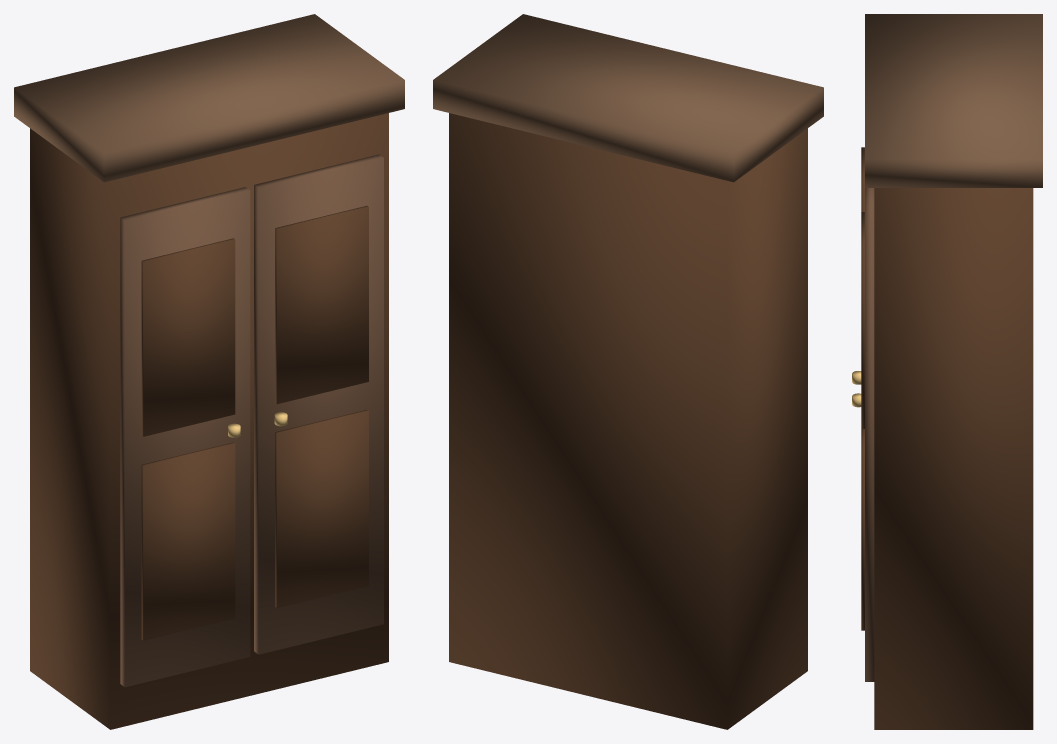
The model's file is wardrobe.glb.
The picture shows the model from 3 angles, left to right: view 1: azimuth 30°, elevation 25°; view 2: azimuth 150°, elevation 25°; view 3: azimuth 270°, elevation 25°; orthographic projection.
Parts seen in each view (by area): view 1: body, crown, door, door.001, panel.001, panel, panel.002, panel.003; view 2: body, crown; view 3: body, crown, door.001, panel.002, panel.003.
Part boxes in pixels (x1,y1,x2,y2): body: (30,113,388,729); crown: (14,14,404,182); door: (120,187,250,687); door.001: (254,154,383,654); panel.001: (141,442,235,640); panel: (141,238,235,436); panel.002: (275,205,368,404); panel.003: (275,410,368,608); body: (449,113,807,729); crown: (433,14,823,182); body: (874,188,1033,729); crown: (865,14,1042,187); door.001: (865,188,874,681); panel.002: (861,212,864,428); panel.003: (861,429,864,630).
Size of what is drawn, in the model's own units: 1.08 by 2 by 0.6.
